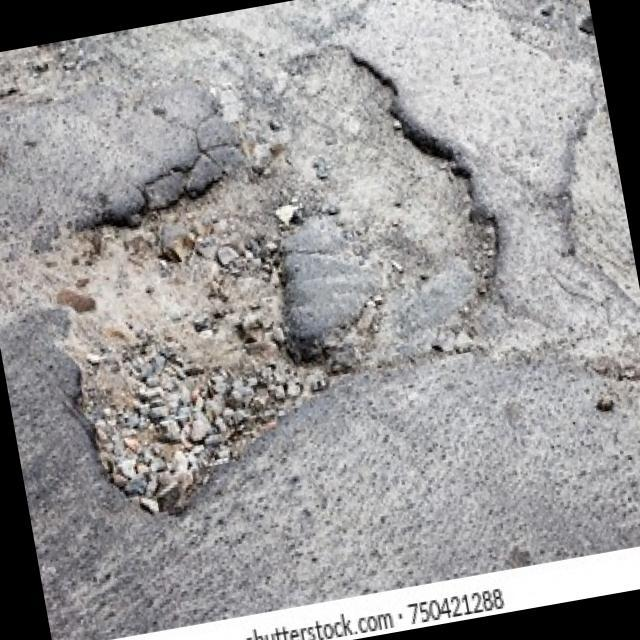Pothole: (23, 23, 534, 526)
